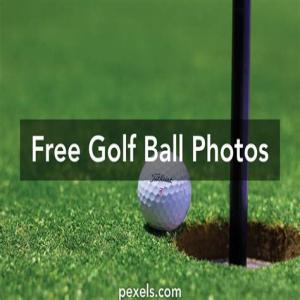Golf: (135, 180, 193, 231)
